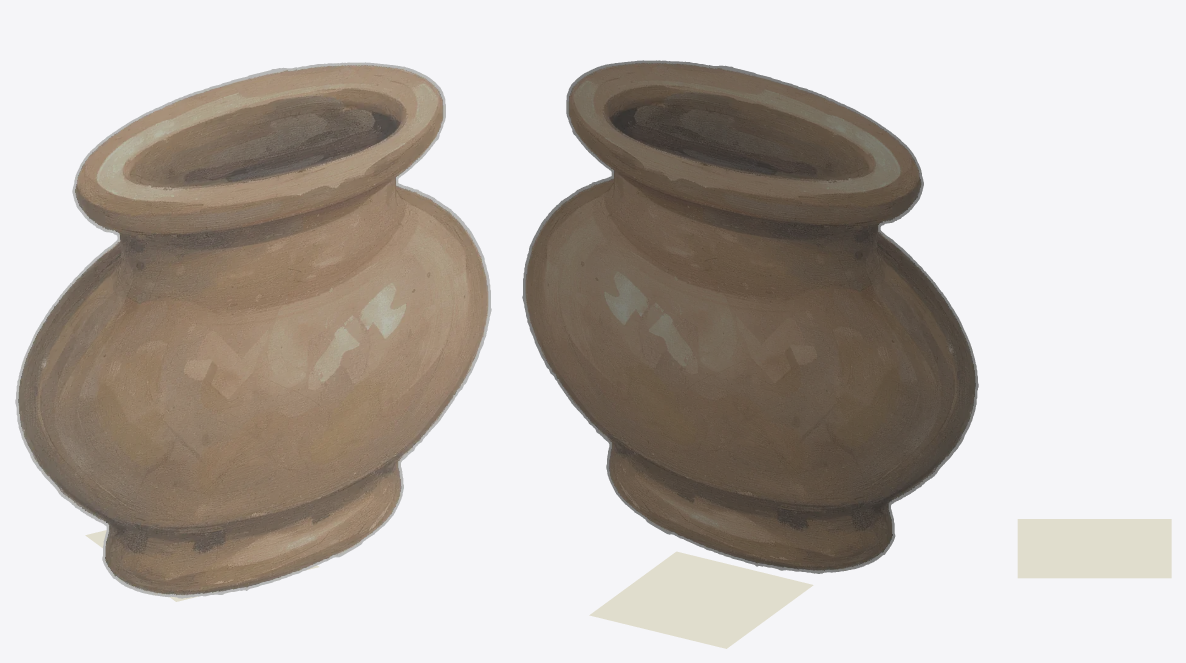
The model's file is toad-standee-pot.glb.
3 views of the same model, side by side, from view 1: azimuth 30°, elevation 25°; view 2: azimuth 150°, elevation 25°; view 3: azimuth 270°, elevation 25° (orthographic). The views are drawn at different scales.
Visible parts, largest first — view 1: pot; view 2: pot; view 3: pot.
Part boxes in pixels (x1,y1,x2,y2): pot: (15, 62, 491, 601); pot: (522, 60, 978, 648); pot: (1017, 519, 1171, 578).
Bounding box in the file's own units: 0.1 × 0.1034 × 0.035.
1 material, 1 textured.
